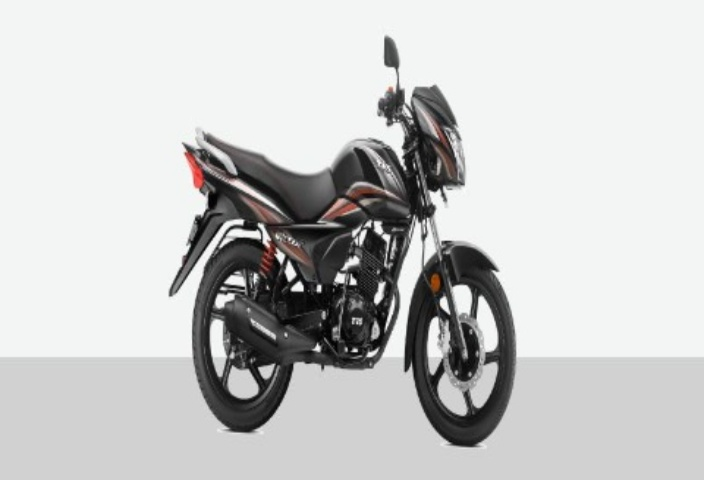motorcycle: (147, 5, 590, 480)
